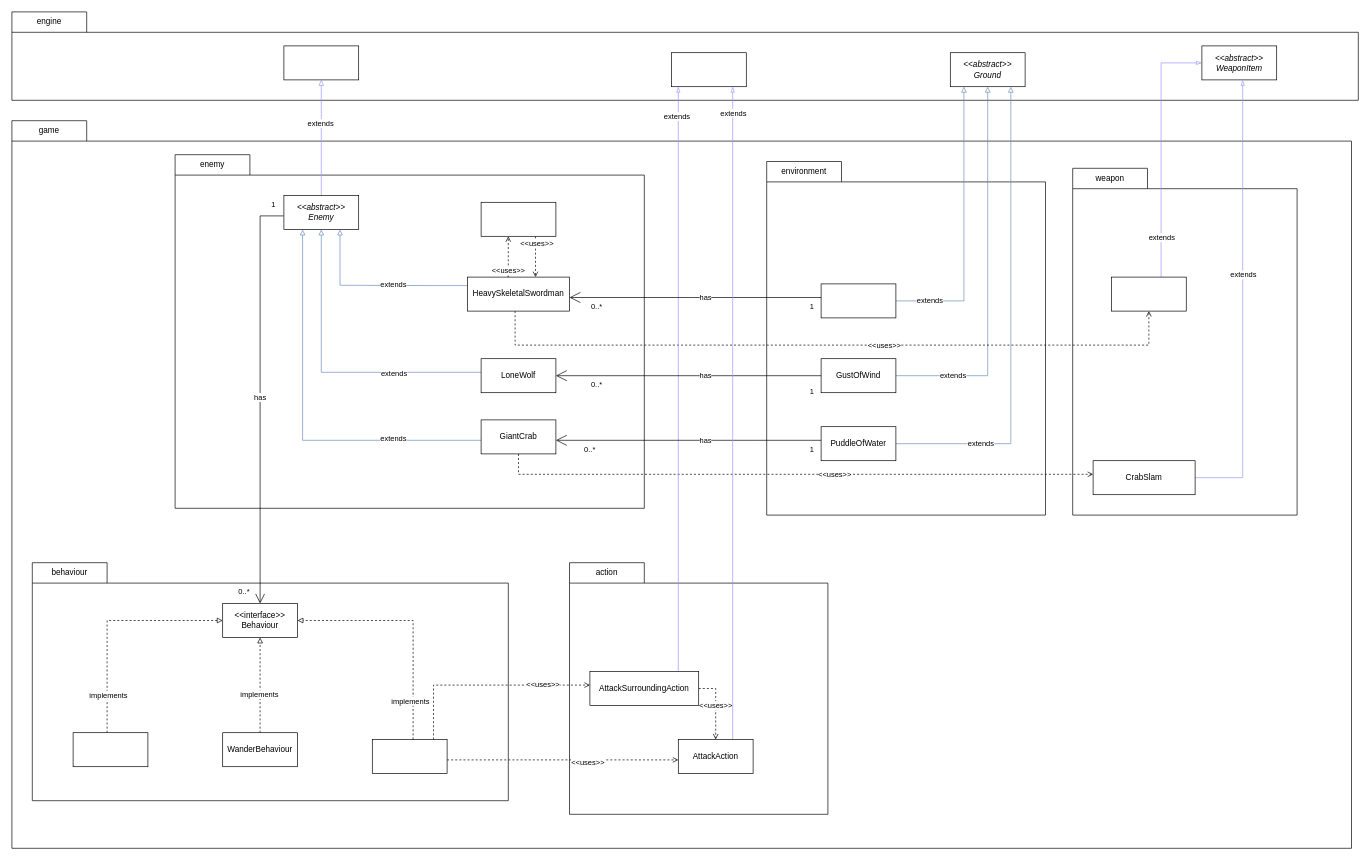
This 1370x860 diagram has some shape labels left out. The centre of each missing label's shape, as x and y in pixels:
"<<abstract>> Action" goes at point (708, 69).
"<<abstract>> Actor" goes at point (321, 62).
"AttackBehaviour" goes at point (409, 756).
"FollowBehaviour" goes at point (110, 749).
"Graveyard" goes at point (858, 300).
"Grossmesser" goes at point (1148, 293).
"PileOfBones" goes at point (518, 219).
